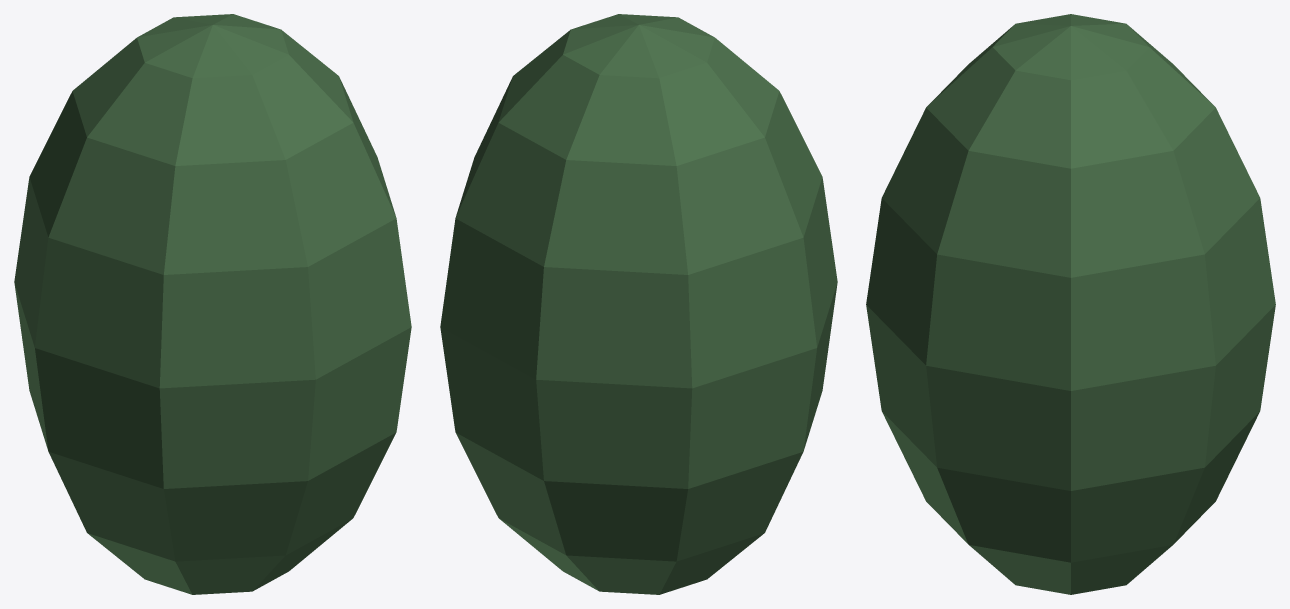
Rendered from Bomb.fbx.
The picture shows the model from 3 angles, left to right: view 1: azimuth 30°, elevation 25°; view 2: azimuth 150°, elevation 25°; view 3: azimuth 270°, elevation 25°; orthographic projection.
Parts seen in each view (by area): view 1: pSphere1; view 2: pSphere1; view 3: pSphere1.
Part boxes in pixels (<box>): pSphere1: <box>14,14,411,594</box>; pSphere1: <box>440,14,837,594</box>; pSphere1: <box>866,14,1275,594</box>.
Bounding box in the file's own units: 0.2 × 0.3 × 0.2.
